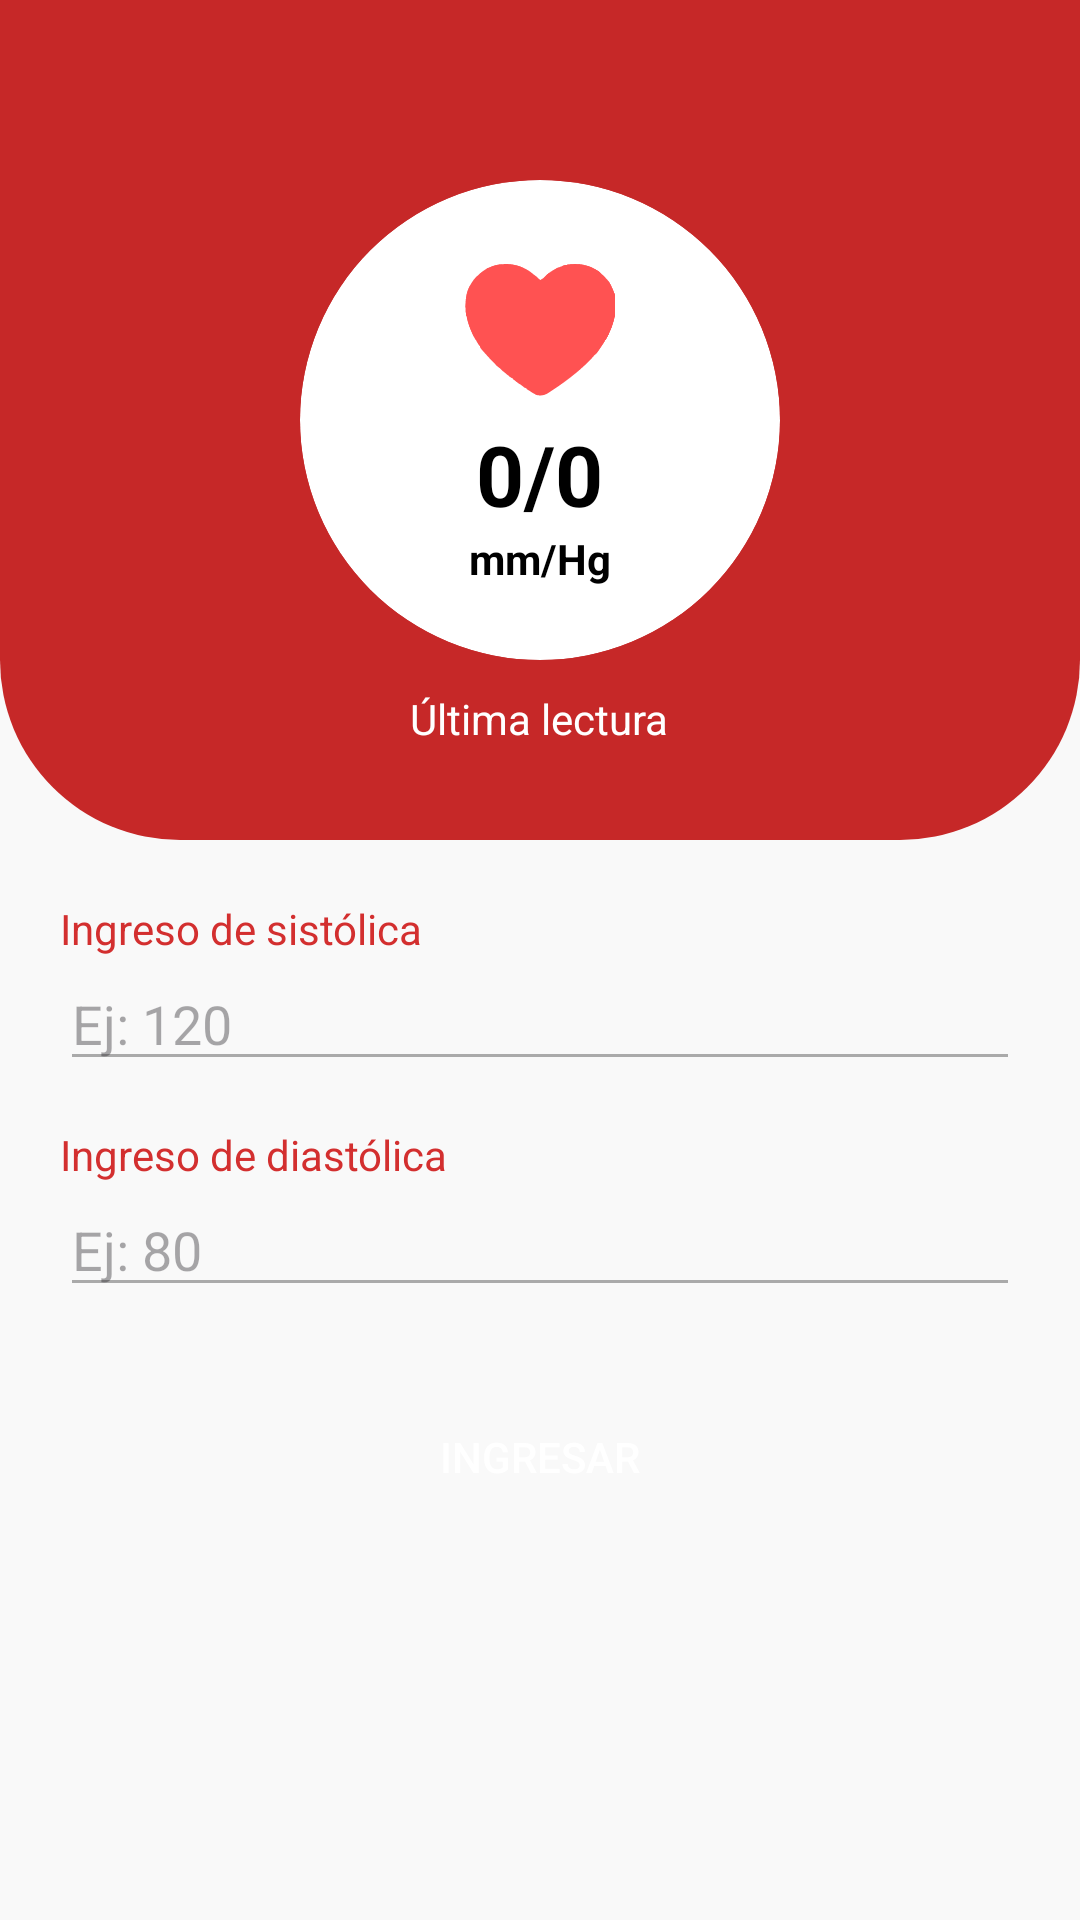

Icons on this 1080px×1920px Android screen, each with the point to tap as [x,y]:
heart: [540,330]
